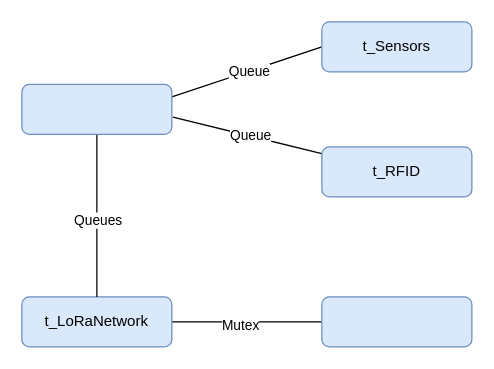
This 494x369 diagram has some shape labels left out. The box of each missing label's shape, as (x1, y1, x2, y2) in pixels:
t_LoRaMAC: (321, 296, 472, 347)
t_Monitor: (21, 83, 172, 134)
